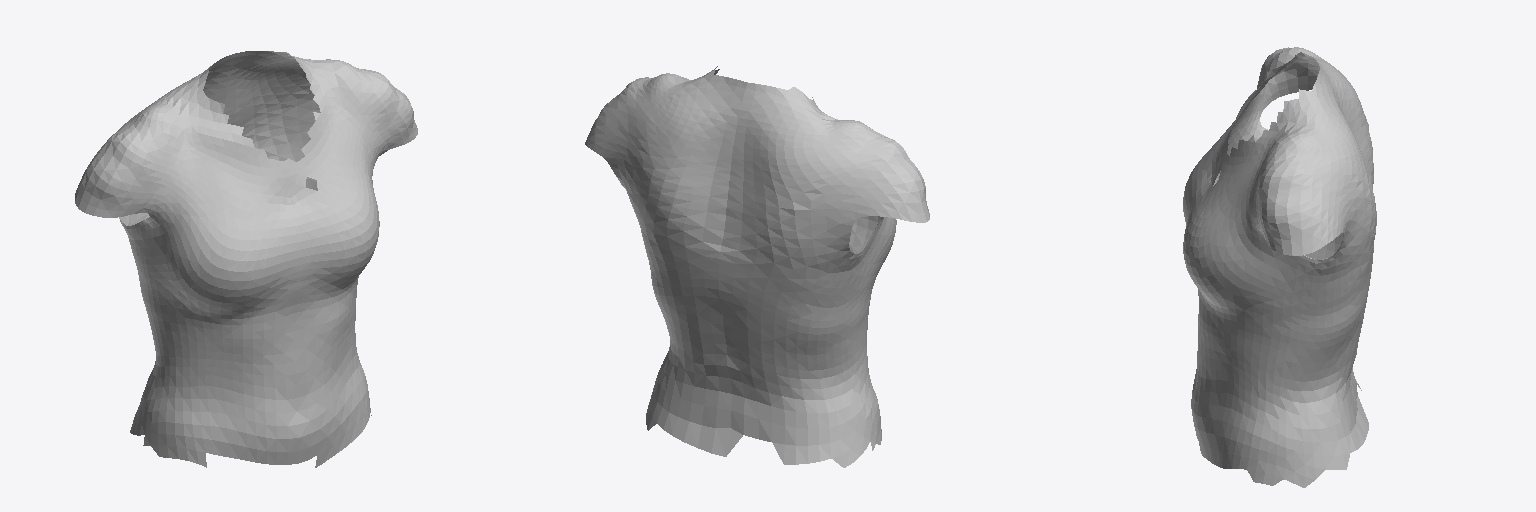
File: shirt.obj
3 renders of one model, left to right at view 1: azimuth 30°, elevation 25°; view 2: azimuth 150°, elevation 25°; view 3: azimuth 270°, elevation 25°, orthographic.
Parts seen in each view (by area): view 1: Sample-person-from-scan_a_pose.001; view 2: Sample-person-from-scan_a_pose.001; view 3: Sample-person-from-scan_a_pose.001.
Part boxes in pixels (x1,y1,x2,y2): Sample-person-from-scan_a_pose.001: (75,51,417,467); Sample-person-from-scan_a_pose.001: (585,66,929,467); Sample-person-from-scan_a_pose.001: (1183,47,1376,487).
Bounding box in the file's own units: 0.4867 × 0.5197 × 0.2421.